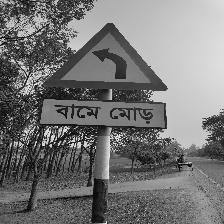Left-Turn: (40, 23, 169, 130)
